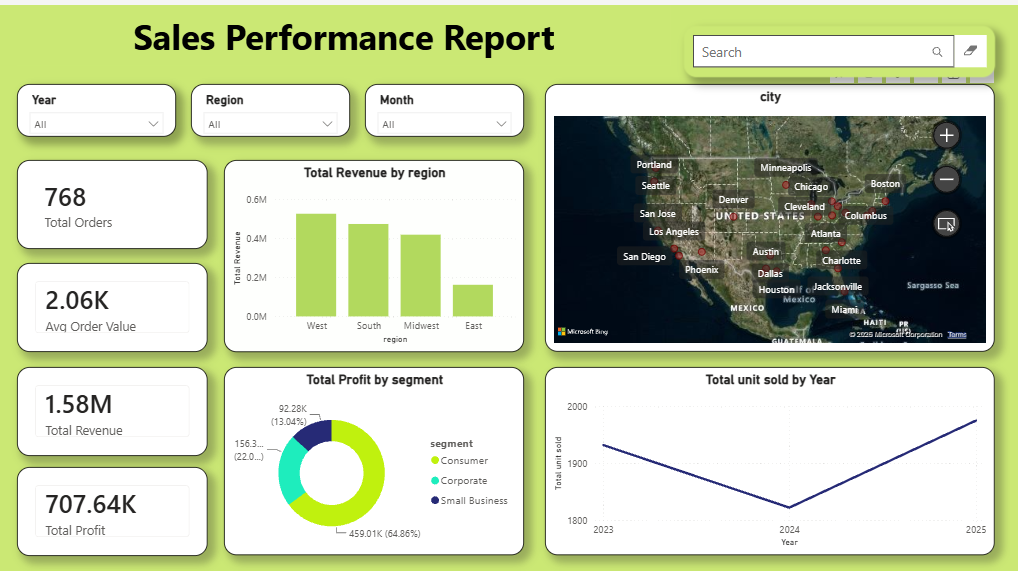

Layout of this report page (visuals, bound fields, positions):
{"tool":"powerbi","page":{"name":"Page 1","canvas":[1280,720],"ordinal":0},"visuals":[{"type":"cardVisual","fields":{"Data":["sales measures.Total Revenue"]},"box":[19.3,459.7,242.2,112.9],"z":0},{"type":"cardVisual","fields":{"Data":["sales measures.Total Orders"]},"box":[19.3,196.8,242.2,112.9],"z":1},{"type":"cardVisual","fields":{"Data":["sales measures.Total Profit"]},"box":[19.3,586.3,242.2,112.9],"z":2},{"type":"cardVisual","fields":{"Data":["sales measures.Avg Order Value"]},"box":[19.3,327.6,242.2,112.9],"z":3},{"type":"donutChart","fields":{"Category":["vw_sales_fact.segment"],"Y":["sales measures.Total Profit"]},"box":[282.2,459.7,381.2,239.5],"z":4},{"type":"columnChart","fields":{"Category":["vw_sales_fact.region"],"Y":["sales measures.Total Revenue"]},"box":[282.2,196.8,381.2,243.6],"z":5},{"type":"slicer","fields":{"Values":["vw_sales_fact.region"]},"box":[239.5,100.5,202.3,67.4],"z":6},{"type":"map","fields":{"Category":["vw_sales_fact.city"]},"box":[689.5,100.5,571.2,340],"z":7},{"type":"lineChart","fields":{"Category":["vw_sales_fact.order_date.Variation.Date Hierarchy.Year"],"Y":["sales measures.Total unit sold"]},"box":[689.5,459.7,571.2,239.5],"z":8},{"type":"slicer","fields":{"Values":["vw_sales_fact.order_date.Variation.Date Hierarchy.Year"]},"box":[19.3,100.5,202.3,67.4],"z":9},{"type":"slicer","fields":{"Values":["vw_sales_fact.order_date.Variation.Date Hierarchy.Month"]},"box":[461.1,100.5,202.3,67.4],"z":10},{"type":"shape","box":[19.3,0,829.9,77.1],"z":11},{"type":"textFilter25A4896A83E0487089E2B90C9AE57C8A","fields":{"field":["vw_sales_fact.product_name"]},"box":[865.7,26.2,395,64.7],"z":12}]}

Visuals, with their boxes in screenshot pixels (x1, y1, x2, y2), scaled from the page's 1280x720 canvas onto the 1018x571 screenshot:
cardVisual - sales measures.Total Revenue: 15,365,208,454
cardVisual - sales measures.Total Orders: 15,156,208,246
cardVisual - sales measures.Total Profit: 15,465,208,555
cardVisual - sales measures.Avg Order Value: 15,260,208,349
donutChart - vw_sales_fact.segment x sales measures.Total Profit: 224,365,528,555
columnChart - vw_sales_fact.region x sales measures.Total Revenue: 224,156,528,349
slicer - vw_sales_fact.region: 190,80,351,133
map - vw_sales_fact.city: 548,80,1003,349
lineChart - vw_sales_fact.order_date.Variation.Date Hierarchy.Year x sales measures.Total unit sold: 548,365,1003,555
slicer - vw_sales_fact.order_date.Variation.Date Hierarchy.Year: 15,80,176,133
slicer - vw_sales_fact.order_date.Variation.Date Hierarchy.Month: 367,80,528,133
shape: 15,0,675,61
textFilter25A4896A83E0487089E2B90C9AE57C8A - vw_sales_fact.product_name: 689,21,1003,72
